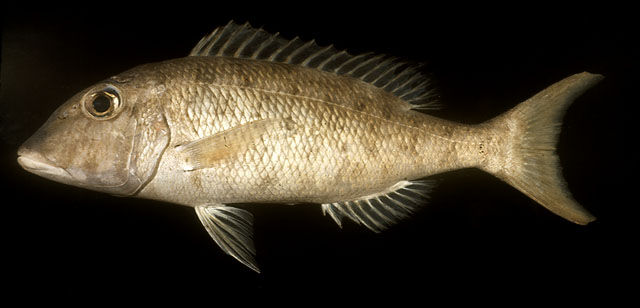fish: (17, 22, 604, 275)
